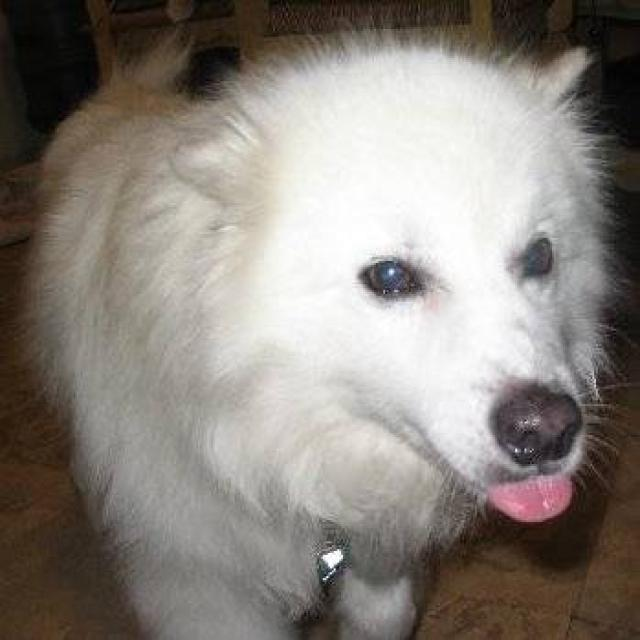dog: (13, 21, 636, 638)
